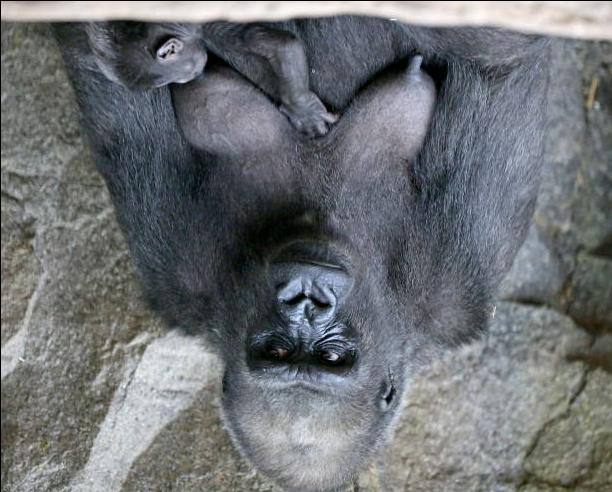gorille_Autres: (58, 25, 530, 487)
